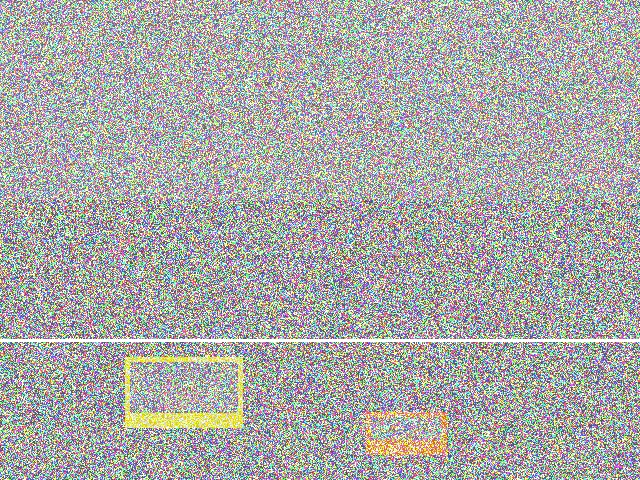bus: (364, 307, 505, 400)
motorcycle: (8, 262, 177, 333)
